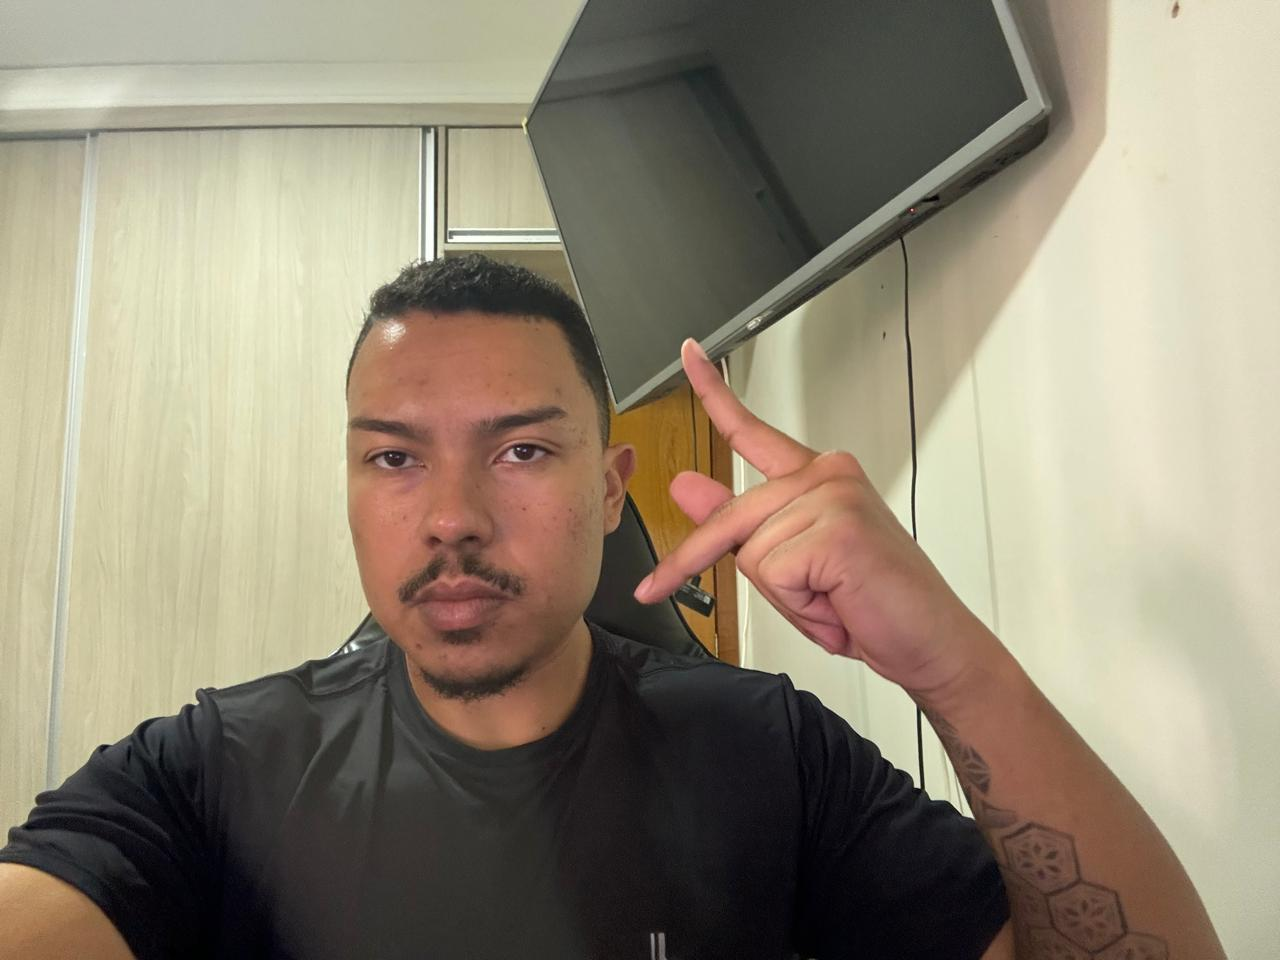p: (624, 318, 971, 704)
